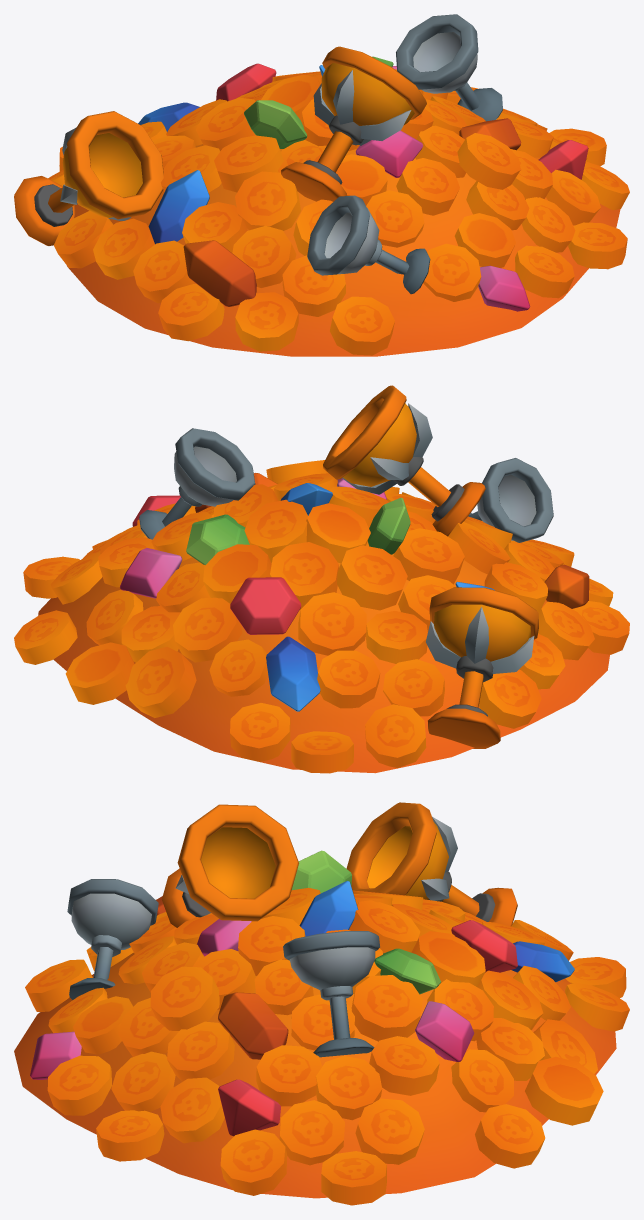
The model's file is inferno-gold-pile-big-001.glb.
The picture shows the model from 3 angles, top to bottom: view 1: azimuth 30°, elevation 25°; view 2: azimuth 150°, elevation 25°; view 3: azimuth 270°, elevation 25°; orthographic projection. The views are drawn at different scales.
Visible parts, largest first — view 1: GoldPileBig_001; view 2: GoldPileBig_001; view 3: GoldPileBig_001.
Part boxes in pixels (box(x1,y1,x2,y2)): GoldPileBig_001: box(14, 14, 629, 356); GoldPileBig_001: box(14, 385, 629, 773); GoldPileBig_001: box(14, 802, 629, 1205).
Size of the model in its own units: 2.87 by 1.19 by 2.67.
Materials: 2 (2 with a texture image).
